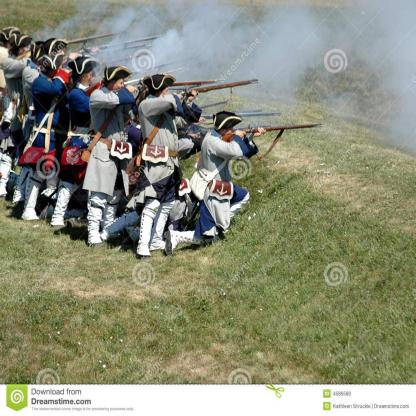face: (113, 78, 125, 95), (53, 51, 65, 65), (225, 125, 234, 142), (162, 86, 170, 102), (85, 70, 93, 85), (23, 45, 31, 58)
